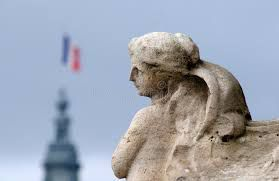French Flag: (60, 33, 82, 74)
